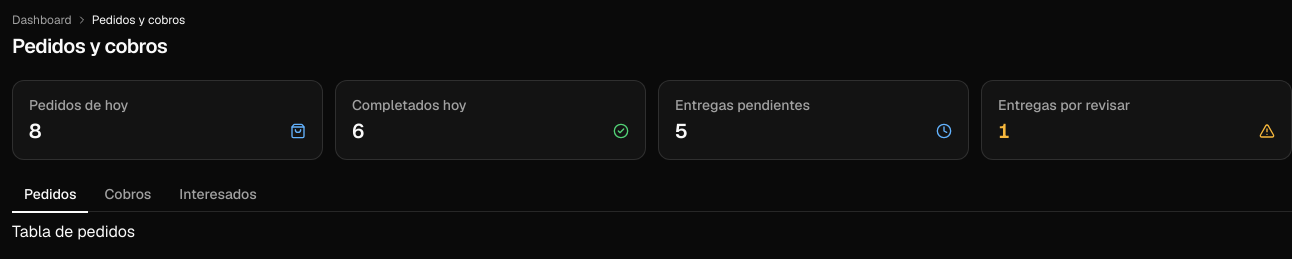
Test case: /pedidos-cobros › cambia de pestaña, la escribe en la URL y solo monta la visible
Click the tab "Cobros" at (128, 194), box [92,176,163,212]
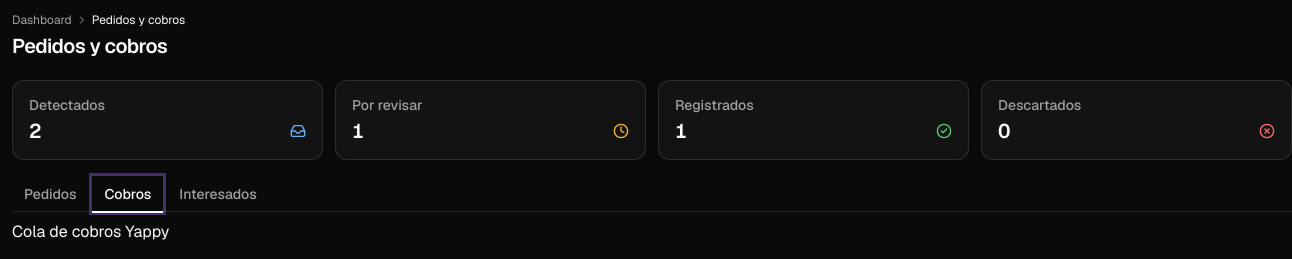
Check: the text "Cola de cobros Yappy" is shown, box [12,221,169,242]
Check: the text "Tabla de pedidos" is gone
Check: the text titled "Pedidos de hoy" is gone
Press Arrowright
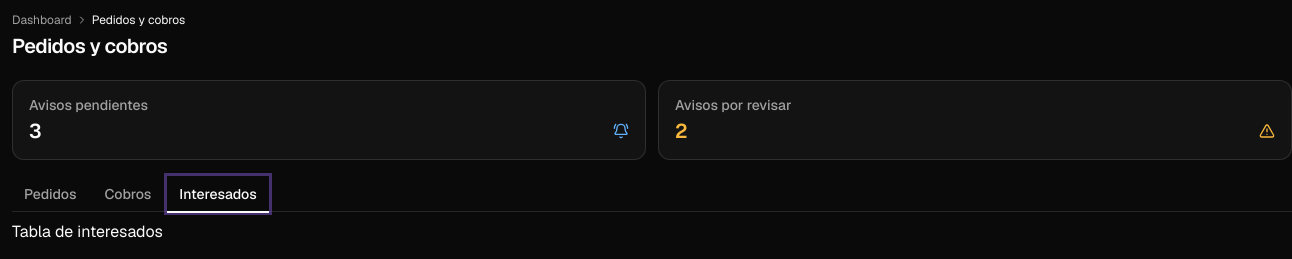
Check: the text "Tabla de interesados" is shown, box [12,221,163,242]
Check: the text "Cola de cobros Yappy" is gone
